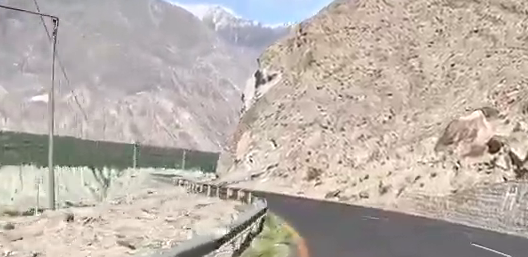right: (246, 165, 528, 257)
